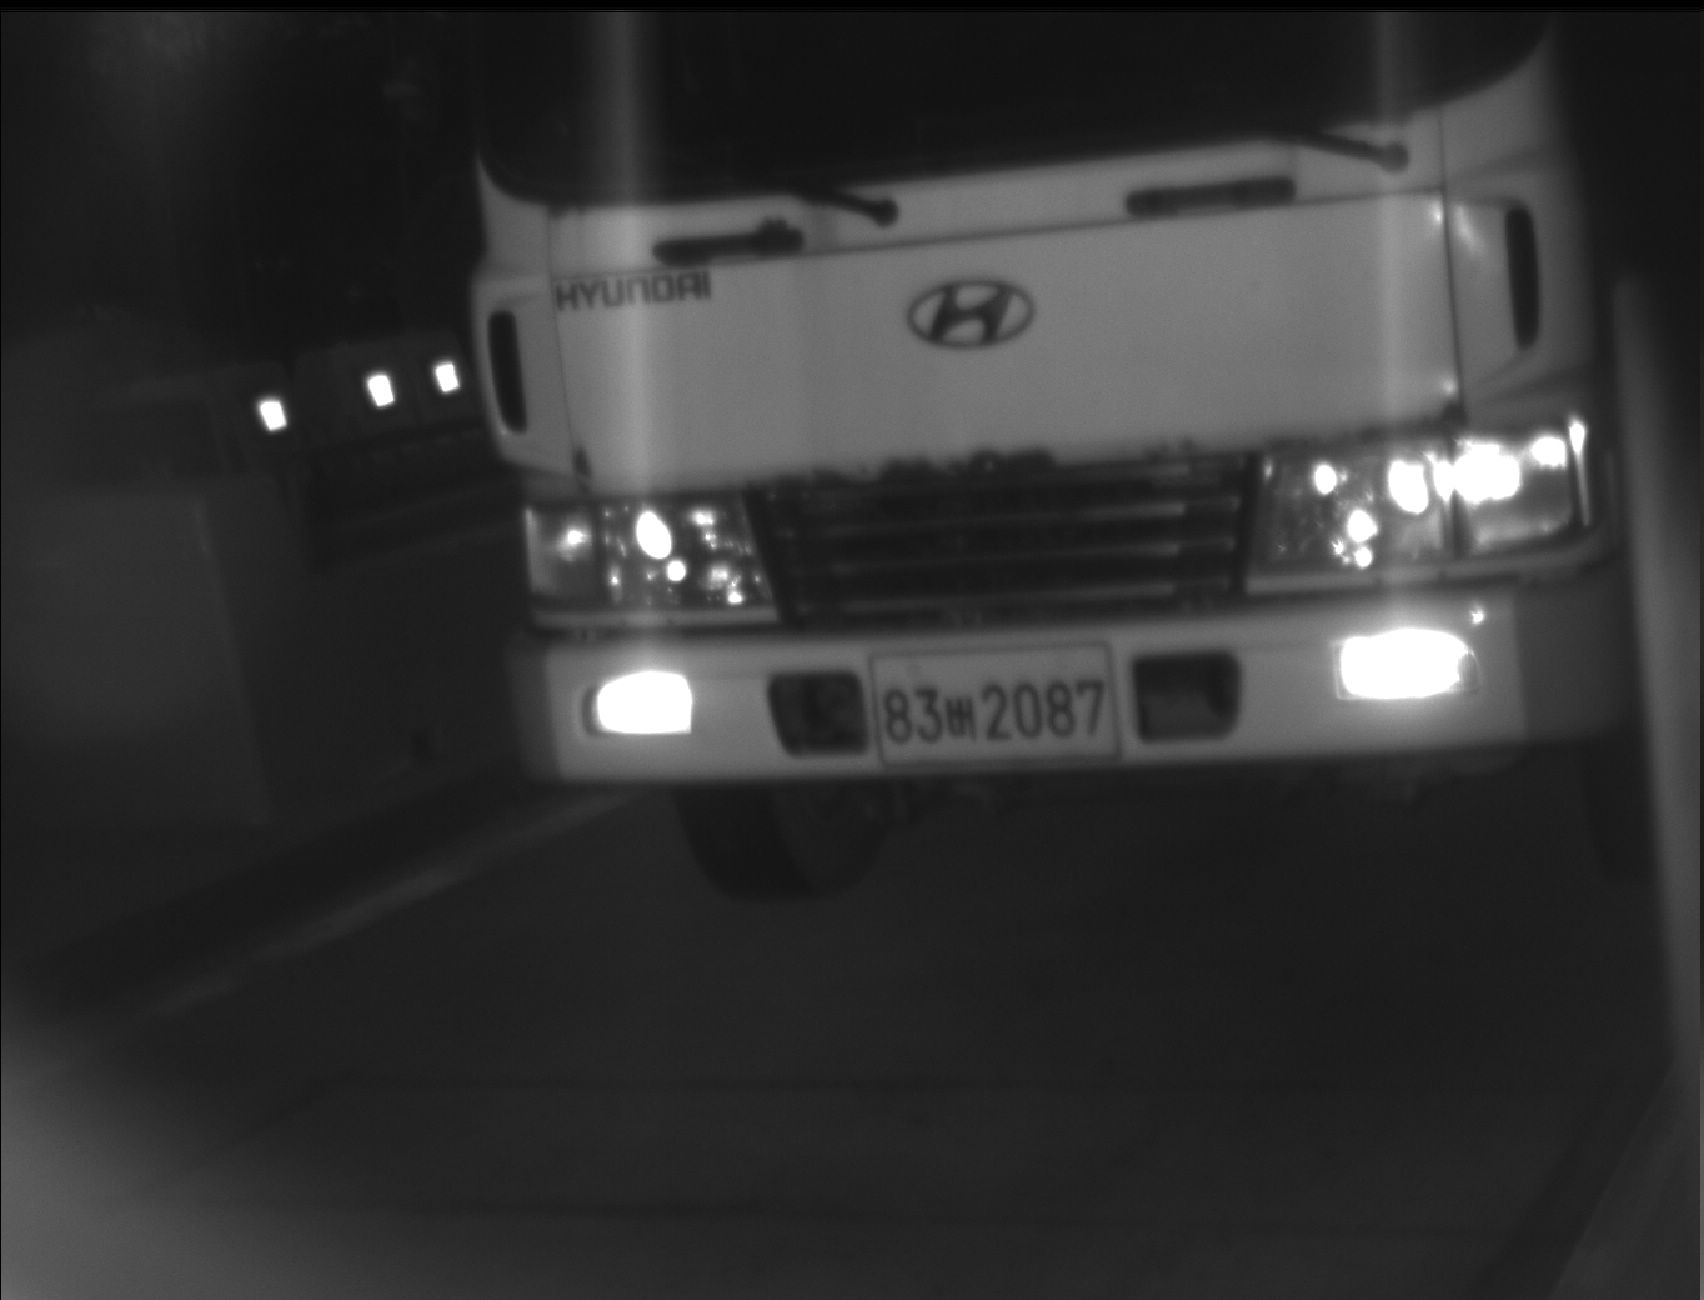car: (459, 1, 1631, 911)
plate: (861, 639, 1127, 770)
